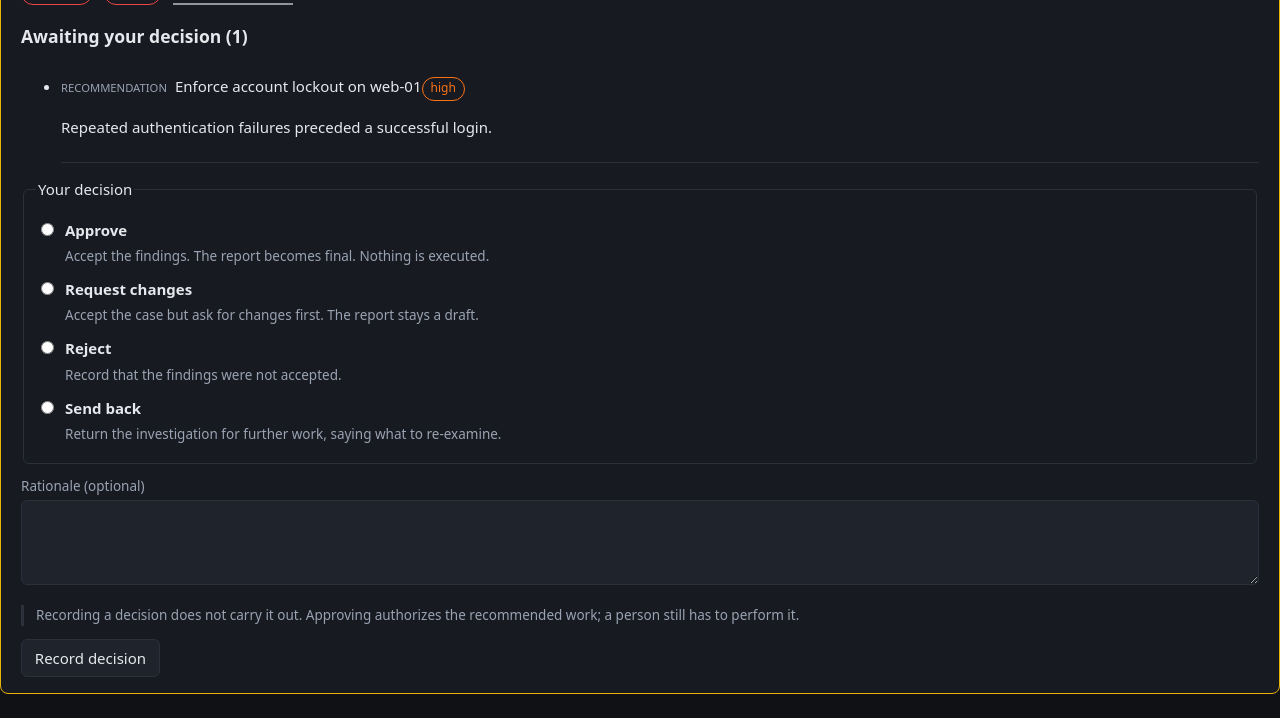
Scenario: what the analyst may do › refuses to submit without a decision
(page scrolled)
Click the button "Record decision".
click(90, 658)  # box [21, 639, 160, 677]
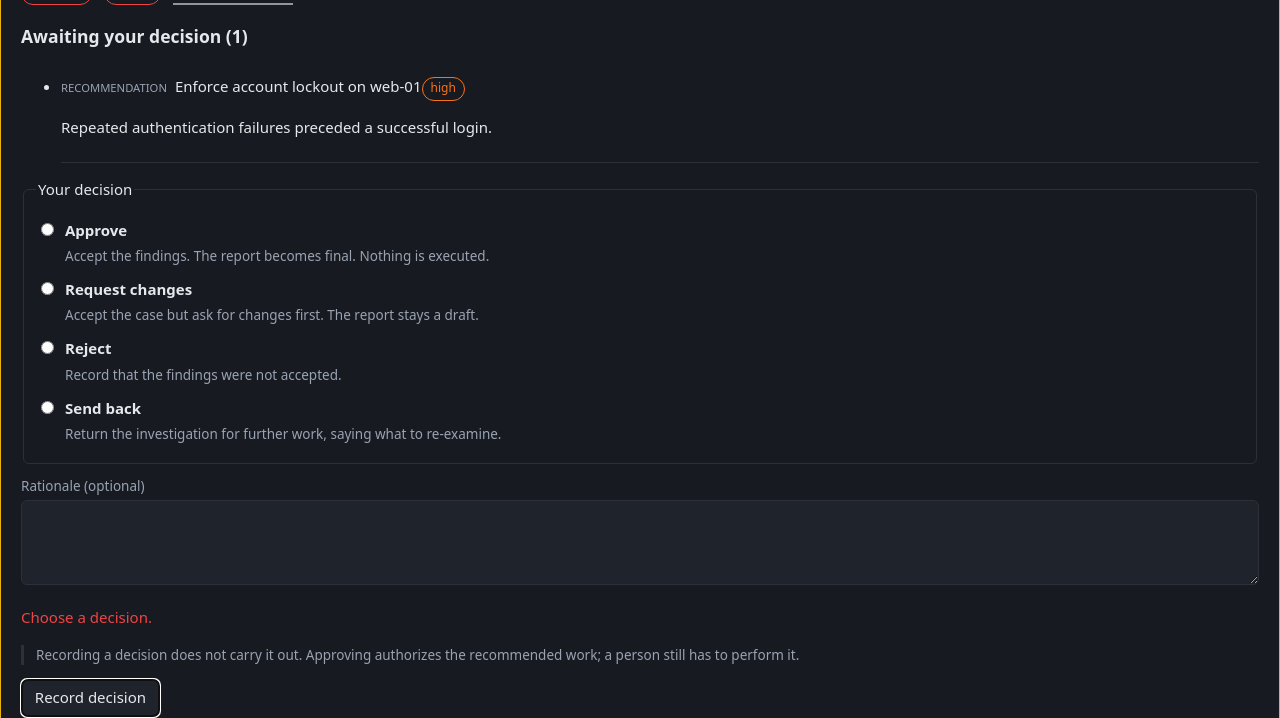
Now the message reads "Choose a decision.", box [21, 607, 152, 627]
